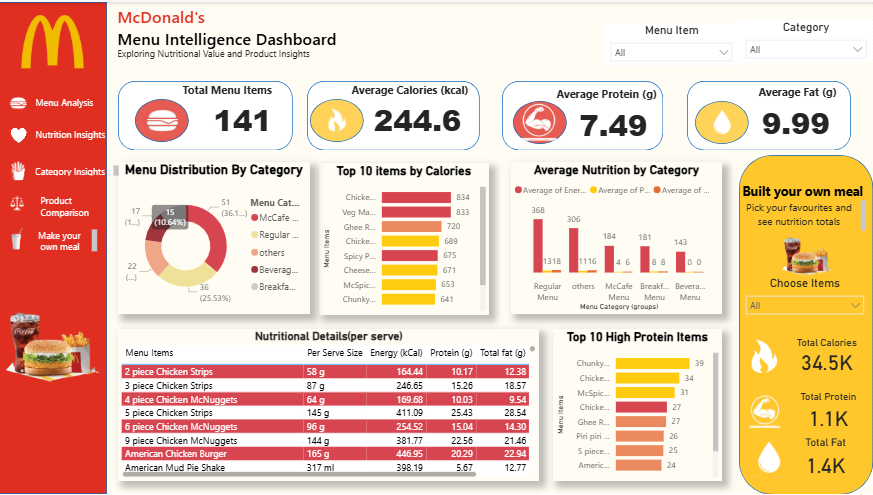

Layout of this report page (visuals, bound fields, positions):
{"tool":"powerbi","page":{"name":"Page 1","canvas":[1280,720],"ordinal":0},"visuals":[{"type":"shape","box":[0,0,158,720],"z":0},{"type":"image","box":[27.8,13.2,101,89.3],"z":1000},{"type":"image","box":[8.8,128.8,39.5,38],"z":2000},{"type":"image","box":[2.9,323.4,45.4,46.8],"z":3000},{"type":"image","box":[0,272.2,52.7,51.2],"z":4000},{"type":"image","box":[4.4,221,48.3,51.2],"z":5000},{"type":"image","box":[8.8,166.8,39.5,54.1],"z":6000},{"type":"textbox","box":[48.3,133.2,101,27.8],"z":7000},{"type":"textbox","box":[48.3,180,158,27.8],"z":8000},{"type":"textbox","box":[55.6,276.6,93.7,43.9],"z":9000},{"type":"textbox","box":[48.3,234.1,131.7,24.9],"z":10000},{"type":"textbox","box":[52.9,327.1,95.7,42.9],"z":11000},{"type":"image","box":[0,437.6,158,133.2],"z":12000},{"type":"textbox","box":[168.6,0,397.1,88.6],"z":13000},{"type":"textbox","box":[168.6,61.4,315.7,27.1],"z":14000},{"type":"slicer","title":"Category","fields":{"Values":["macdonald data.Menu Category"]},"box":[1083.5,26.9,196.5,62.2],"z":15000},{"type":"slicer","title":"Menu Item","fields":{"Values":["macdonald data.Menu Items"]},"box":[885.2,30.2,198.2,62.2],"z":16000},{"type":"shape","box":[174.3,115.7,255.7,101.4],"z":17000},{"type":"textbox","box":[262.9,112.9,155.7,38.6],"z":18000},{"type":"shape","box":[450,115.7,252.9,101.4],"z":19000},{"type":"shape","box":[735.7,115.7,235.7,101.4],"z":20000},{"type":"shape","box":[1007.1,115.7,240,101.4],"z":21000},{"type":"textbox","box":[510,112.9,192.9,32.9],"z":22000},{"type":"textbox","box":[811.4,118.6,172.9,32.9],"z":23000},{"type":"textbox","box":[1105.7,115.7,141.4,38.6],"z":24000},{"type":"image","box":[207.1,141.4,64.3,62.9],"z":25000},{"type":"shape","box":[455.7,141.4,78.6,62.9],"z":26000},{"type":"image","box":[468.6,145.7,52.9,52.9],"z":27000},{"type":"shape","box":[1018.6,144.3,78.6,62.9],"z":28000},{"type":"shape","box":[752.9,144.3,78.6,62.9],"z":29000},{"type":"shape","box":[198.6,141.4,78.6,62.9],"z":30000},{"type":"image","box":[190,141.4,97.1,62.9],"z":31000},{"type":"image","box":[752.9,141.4,75.7,65.7],"z":32000},{"type":"image","box":[1024.3,151.4,68.6,52.9],"z":33000},{"type":"donutChart","title":"Menu Distribution By Category","fields":{"Y":["macdonald data.count of item"],"Category":["macdonald data.Menu Category (groups)"]},"box":[174.7,233.5,280.5,223.4],"z":34000},{"type":"card","fields":{"Values":["macdonald data.count of item"]},"box":[287.2,141.1,139.4,62.2],"z":35000},{"type":"card","fields":{"Values":["Avg(macdonald data.Energy (kCal))"]},"box":[520.7,141.1,183.1,62.2],"z":36000},{"type":"card","fields":{"Values":["Avg(macdonald data.Protein (g))"]},"box":[826.5,151.2,144.5,55.4],"z":37000},{"type":"card","fields":{"Values":["Avg(macdonald data.Total fat (g))"]},"box":[1093.5,144.5,146.1,62.2],"z":38000},{"type":"clusteredBarChart","title":"Top 10 items by Calories","fields":{"Category":["macdonald data.Menu Items"],"Y":["Sum(macdonald data.Energy (kCal))"]},"box":[468.7,235.2,248.6,221.7],"z":39000},{"type":"clusteredColumnChart","title":"Average Nutrition by Category","fields":{"Category":["macdonald data.Menu Category (groups)"],"Y":["Avg(macdonald data.Energy (kCal))","Avg(macdonald data.Protein (g))","Avg(macdonald data.Total fat (g))"]},"box":[749.2,233.5,309.1,221.7],"z":40000},{"type":"tableEx","title":"Nutritional Details(per serve)","fields":{"Values":["macdonald data.Menu Items","macdonald data.Per Serve Size","macdonald data.Energy (kCal)","macdonald data.Protein (g)","macdonald data.Total fat (g)","macdonald data.Sodium (mg)"]},"box":[174.7,478.7,616.5,221.7],"z":41000},{"type":"clusteredBarChart","title":"Top 10 High Protein Items","fields":{"Category":["macdonald data.Menu Items"],"Y":["Sum(macdonald data.Protein (g))"]},"box":[811.3,478.7,246.9,221.7],"z":42000},{"type":"shape","box":[1083.5,223.4,196.5,497.2],"z":43000},{"type":"textbox","box":[1083.5,258.7,196.5,40.3],"z":44000},{"type":"textbox","box":[1076.7,285.6,196.5,60.5],"z":45000},{"type":"slicer","title":"Choose Items","fields":{"Values":["macdonald data.Menu Items"]},"box":[1083.5,401.5,193.2,70.6],"z":46000},{"type":"card","title":"Total Calories","fields":{"Values":["Sum(macdonald data.Energy (kCal))"]},"box":[1157.4,490.5,107.5,55.4],"z":47000},{"type":"image","box":[1083.5,482.1,73.9,73.9],"z":48000},{"type":"card","title":"Total Protein","fields":{"Values":["Sum(macdonald data.Protein (g))"]},"box":[1147.3,569.4,132.7,62.2],"z":49000},{"type":"image","box":[1081.8,569.4,79,58.8],"z":50000},{"type":"card","title":"Total Fat","fields":{"Values":["Sum(macdonald data.Total fat (g))"]},"box":[1157.4,635,104.1,65.5],"z":51000},{"type":"image","box":[1093.5,635,67.2,65.5],"z":52000},{"type":"image","box":[1105.3,336,156.2,70.6],"z":53000}]}

Visuals, with their boxes in screenshot pixels (x1, y1, x2, y2), scaled from the page's 1280x720 canvas onto the 873x495 screenshot:
shape: (x1=0, y1=0, x2=108, y2=494)
image: (x1=19, y1=9, x2=88, y2=70)
image: (x1=6, y1=89, x2=33, y2=115)
image: (x1=2, y1=222, x2=33, y2=255)
image: (x1=0, y1=187, x2=36, y2=222)
image: (x1=3, y1=152, x2=36, y2=187)
image: (x1=6, y1=115, x2=33, y2=152)
textbox: (x1=33, y1=92, x2=102, y2=111)
textbox: (x1=33, y1=124, x2=141, y2=143)
textbox: (x1=38, y1=190, x2=102, y2=220)
textbox: (x1=33, y1=161, x2=123, y2=178)
textbox: (x1=36, y1=225, x2=101, y2=254)
image: (x1=0, y1=301, x2=108, y2=392)
textbox: (x1=115, y1=0, x2=386, y2=61)
textbox: (x1=115, y1=42, x2=330, y2=61)
"Category" slicer: (x1=739, y1=18, x2=872, y2=61)
"Menu Item" slicer: (x1=604, y1=21, x2=739, y2=64)
shape: (x1=119, y1=80, x2=293, y2=149)
textbox: (x1=179, y1=78, x2=285, y2=104)
shape: (x1=307, y1=80, x2=479, y2=149)
shape: (x1=502, y1=80, x2=663, y2=149)
shape: (x1=687, y1=80, x2=851, y2=149)
textbox: (x1=348, y1=78, x2=479, y2=100)
textbox: (x1=553, y1=82, x2=671, y2=104)
textbox: (x1=754, y1=80, x2=851, y2=106)
image: (x1=141, y1=97, x2=185, y2=140)
shape: (x1=311, y1=97, x2=364, y2=140)
image: (x1=320, y1=100, x2=356, y2=137)
shape: (x1=695, y1=99, x2=748, y2=142)
shape: (x1=514, y1=99, x2=567, y2=142)
shape: (x1=135, y1=97, x2=189, y2=140)
image: (x1=130, y1=97, x2=196, y2=140)
image: (x1=514, y1=97, x2=565, y2=142)
image: (x1=699, y1=104, x2=745, y2=140)
"Menu Distribution By Category" donutChart: (x1=119, y1=161, x2=310, y2=314)
card - macdonald data.count of item: (x1=196, y1=97, x2=291, y2=140)
card - Avg(macdonald data.Energy (kCal)): (x1=355, y1=97, x2=480, y2=140)
card - Avg(macdonald data.Protein (g)): (x1=564, y1=104, x2=662, y2=142)
card - Avg(macdonald data.Total fat (g)): (x1=746, y1=99, x2=845, y2=142)
"Top 10 items by Calories" clusteredBarChart: (x1=320, y1=162, x2=489, y2=314)
"Average Nutrition by Category" clusteredColumnChart: (x1=511, y1=161, x2=722, y2=313)
"Nutritional Details(per serve)" tableEx: (x1=119, y1=329, x2=540, y2=482)
"Top 10 High Protein Items" clusteredBarChart: (x1=553, y1=329, x2=722, y2=482)
shape: (x1=739, y1=154, x2=872, y2=494)
textbox: (x1=739, y1=178, x2=872, y2=206)
textbox: (x1=734, y1=196, x2=868, y2=238)
"Choose Items" slicer: (x1=739, y1=276, x2=871, y2=325)
"Total Calories" card: (x1=789, y1=337, x2=863, y2=375)
image: (x1=739, y1=331, x2=789, y2=382)
"Total Protein" card: (x1=782, y1=391, x2=872, y2=434)
image: (x1=738, y1=391, x2=792, y2=432)
"Total Fat" card: (x1=789, y1=437, x2=860, y2=482)
image: (x1=746, y1=437, x2=792, y2=482)
image: (x1=754, y1=231, x2=860, y2=280)
